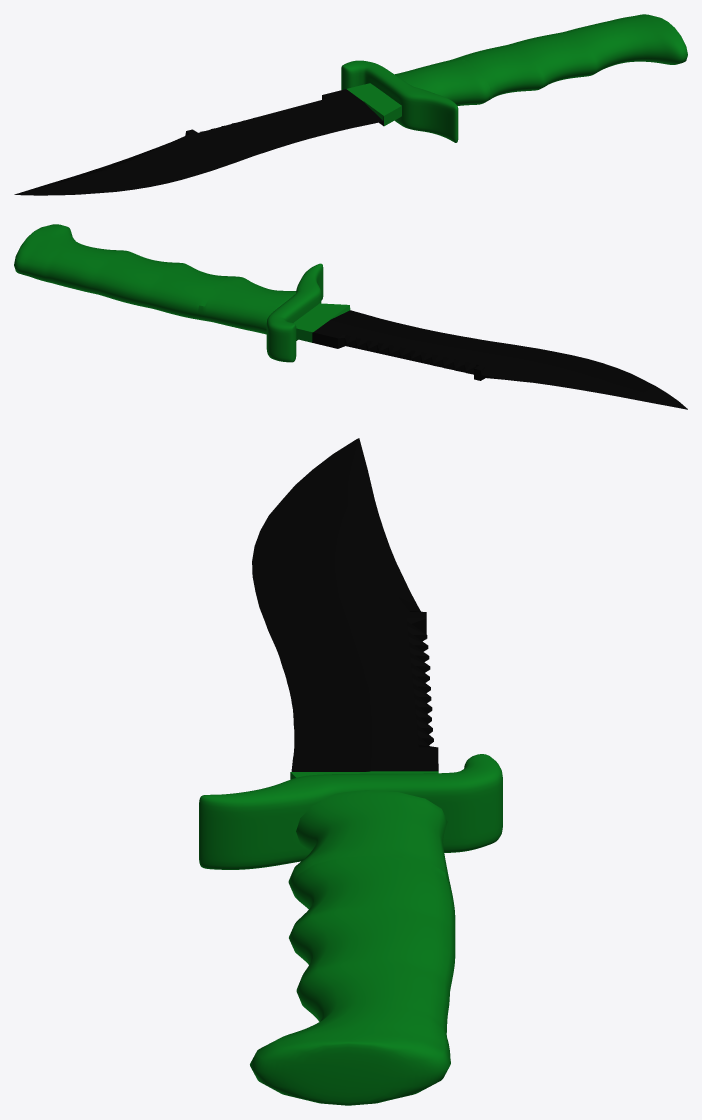
Rendered from Cuchillo.fbx.
3 renders of one model, top to bottom at view 1: azimuth 30°, elevation 25°; view 2: azimuth 150°, elevation 25°; view 3: azimuth 270°, elevation 25°, orthographic. The views are drawn at different scales.
Visible parts, largest first — view 1: Filo, Mango, Mango y union; view 2: Filo, Mango, Mango y union; view 3: Filo, Mango, Mango y union.
Part boxes in pixels (x1=…): Filo: x1=14, y1=89, x2=383, y2=195; Mango: x1=455, y1=14, x2=687, y2=99; Mango y union: x1=341, y1=58, x2=490, y2=142; Filo: x1=312, y1=310, x2=687, y2=409; Mango: x1=14, y1=224, x2=234, y2=320; Mango y union: x1=197, y1=263, x2=350, y2=362; Filo: x1=252, y1=438, x2=438, y2=771; Mango: x1=250, y1=855, x2=455, y2=1105; Mango y union: x1=199, y1=754, x2=502, y2=899.
Size of the model in its own units: 608 by 32.42 by 123.
